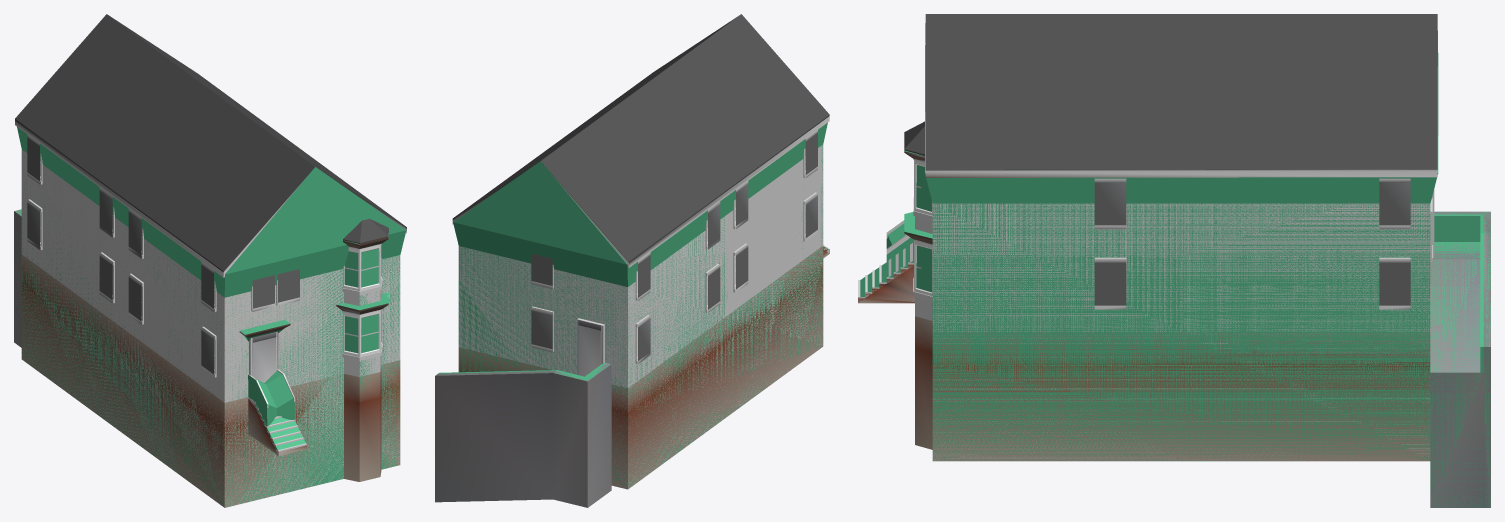
The model's file is eca_bld_house_05_a.dae.
The picture shows the model from 3 angles, left to right: view 1: azimuth 30°, elevation 25°; view 2: azimuth 150°, elevation 25°; view 3: azimuth 270°, elevation 25°; orthographic projection. The views are drawn at different scales.
Parts seen in each view (by area): view 1: ind_bld_a100, Colmesh-1, ind_bld_a60, ind_bld_a400; view 2: ind_bld_a100, Colmesh-1, ind_bld_a400, ind_bld_a60; view 3: ind_bld_a100, Colmesh-1, ind_bld_a400, ind_bld_a60.
Boxes of the visible parts, x1,y1,x2,y2 form: ind_bld_a100: (14,14,406,507); Colmesh-1: (14,127,406,507); ind_bld_a60: (21,151,400,505); ind_bld_a400: (21,150,399,451); ind_bld_a100: (435,14,829,507); Colmesh-1: (438,122,828,488); ind_bld_a400: (459,145,829,386); ind_bld_a60: (459,148,823,488); ind_bld_a100: (858,14,1490,507); Colmesh-1: (860,23,1490,507); ind_bld_a400: (858,159,1434,331); ind_bld_a60: (933,204,1430,459).
Bounding box in the file's own units: 7.29 × 17.8 × 13.7.
